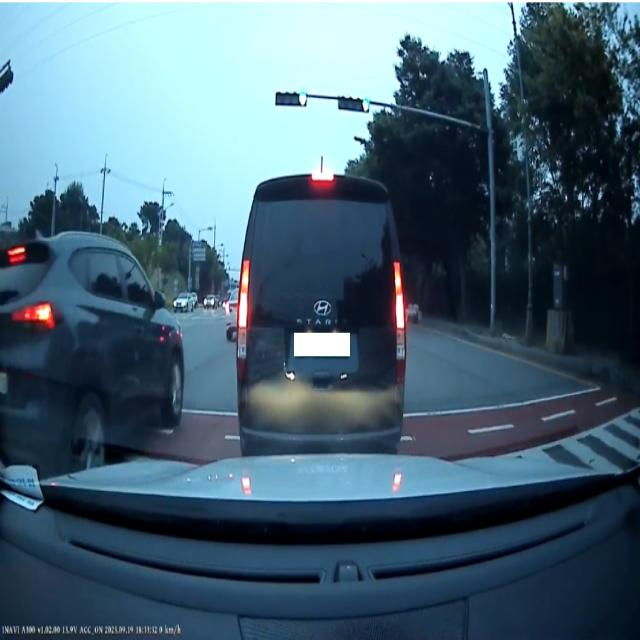Green Light: (298, 85, 308, 106), (360, 93, 370, 113)
